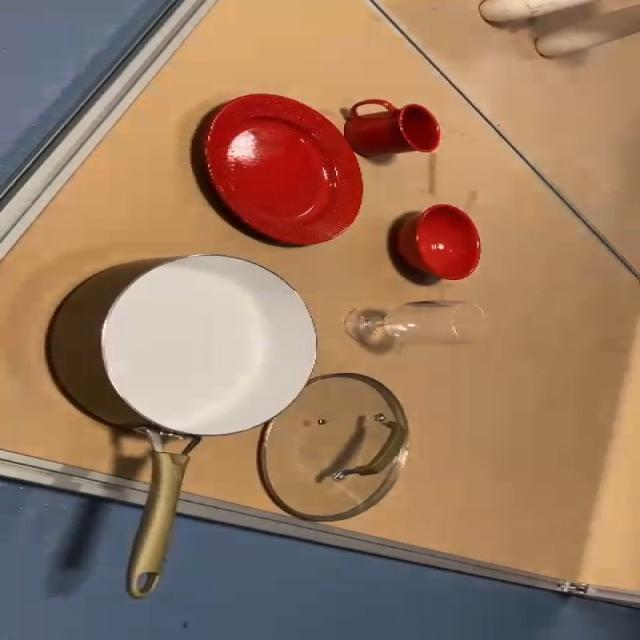Bowl: (402, 196, 490, 288)
Glass: (343, 288, 500, 365)
Plate: (202, 93, 376, 247)
cup: (325, 96, 452, 160)
pot: (47, 257, 313, 600)
